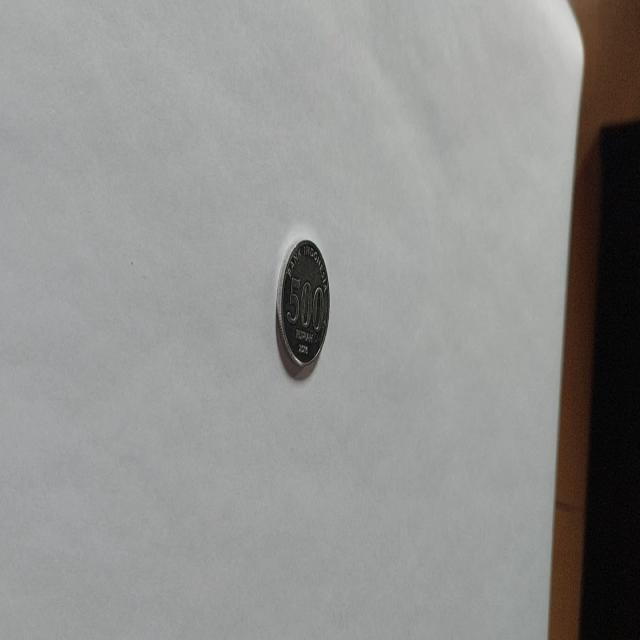lima ratus rupiah: (274, 236, 330, 376)
